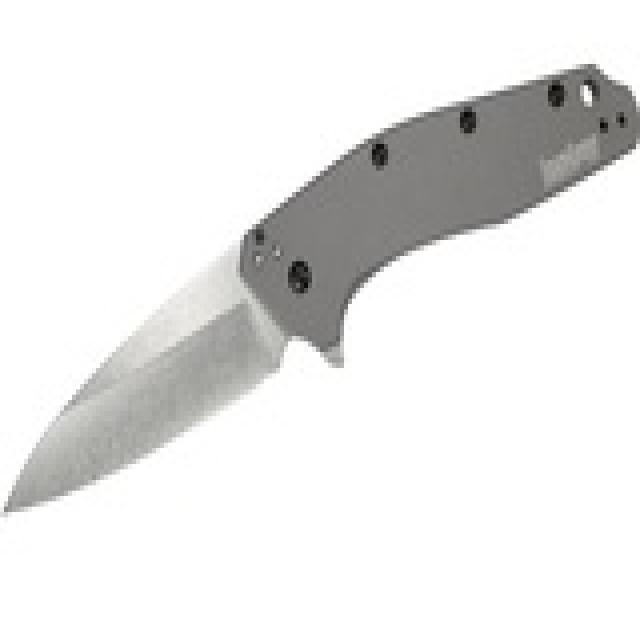Knife: (5, 60, 640, 531)
